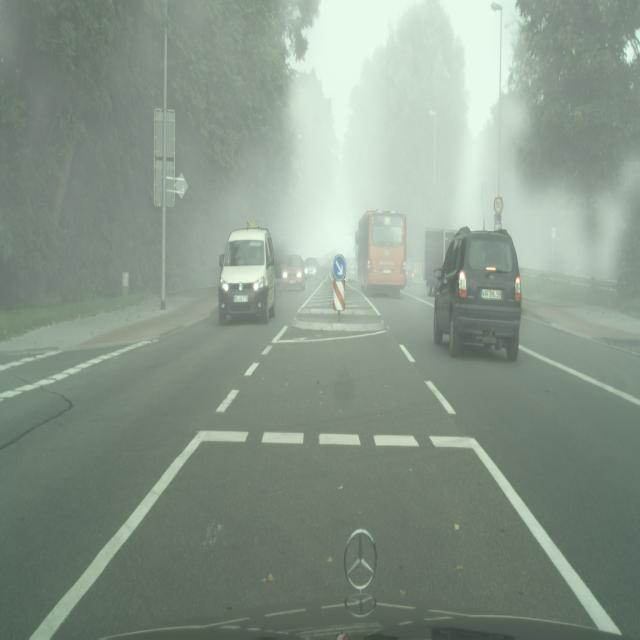bicycle: (355, 209, 406, 294)
truck: (433, 228, 522, 361), (218, 225, 276, 326), (281, 253, 307, 291), (403, 259, 414, 286), (304, 259, 318, 280)
